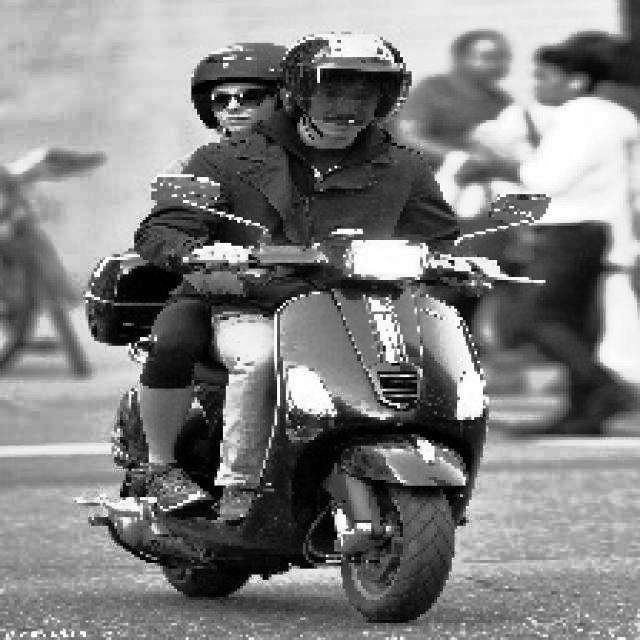Bike: (236, 239, 512, 627)
